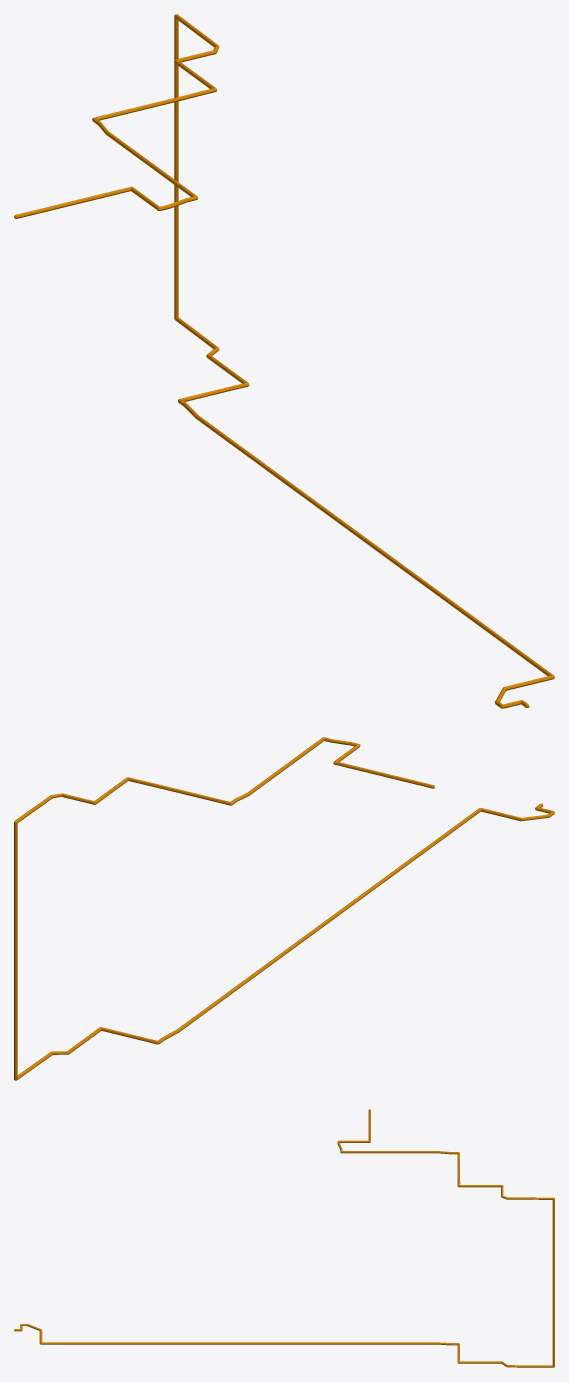
The picture shows the model from 3 angles, top to bottom: view 1: azimuth 30°, elevation 25°; view 2: azimuth 150°, elevation 25°; view 3: azimuth 270°, elevation 25°; orthographic projection. The views are drawn at different scales.
Bounding box in the file's own units: 1713 × 1520 × 4383.
